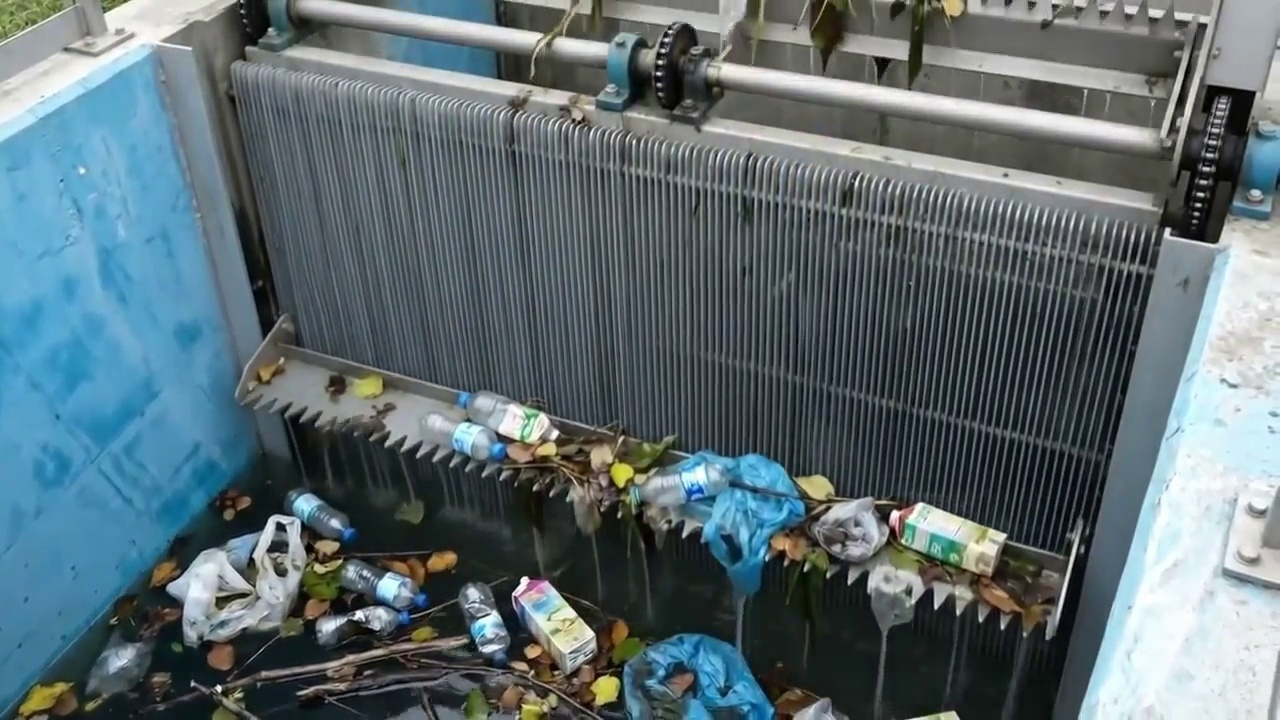debris: (411, 391, 1055, 627), (166, 489, 356, 644), (166, 517, 305, 643), (220, 636, 466, 689), (624, 635, 771, 719), (317, 561, 427, 645), (513, 579, 595, 672), (87, 626, 155, 696), (459, 583, 511, 660), (286, 488, 355, 542), (792, 698, 848, 719), (148, 691, 198, 710)
